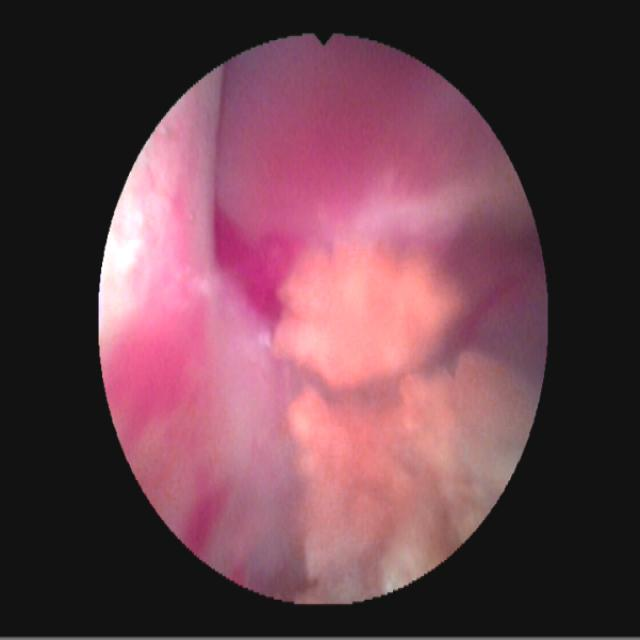stone: (289, 357, 535, 598), (275, 233, 473, 386)
